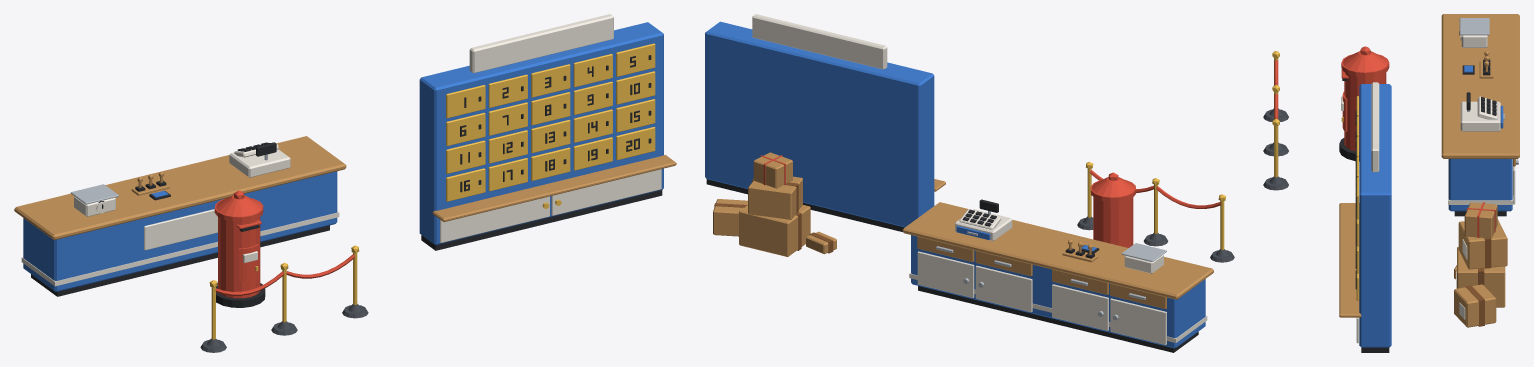
The model's file is post-office-counter-set.glb.
3 renders of one model, left to right at view 1: azimuth 30°, elevation 25°; view 2: azimuth 150°, elevation 25°; view 3: azimuth 270°, elevation 25°, orthographic. The views are drawn at different scales.
Visible parts, largest first — view 1: POWall_Body, Counter_Body, Counter_Top, POWall_Sign_Blank, Postbox_Body, Counter_Trim, POWall_Ledge, POWall_Cabinet_Door_R, POWall_Cabinet_Door_L, POWall_Plinth, Counter_Plinth, Register_Body (+27 smaller); view 2: POWall_Body, Counter_Top, Parcels, Counter_Body, POWall_Sign_Blank, Postbox_Body, Cabinet_Door_4, Cabinet_Door_3, Cabinet_Door_2, Cabinet_Door_1, Counter_Plinth, Register_Body (+12 smaller); view 3: Counter_Top, POWall_Body, Parcels, Counter_Body, Postbox_Body, POWall_Ledge, Register_Body, POWall_Sign_Blank, Stanchion_Bases, Parcel_Tape, Scale_Platform, Stanchion_Posts (+6 smaller).
Boxes of the visible parts, box(x1,y1,x2,y2) form: POWall_Body: box(419, 22, 663, 245); Counter_Body: box(23, 171, 337, 291); Counter_Top: box(14, 136, 346, 240); POWall_Sign_Blank: box(469, 14, 613, 72); Postbox_Body: box(214, 190, 263, 298); Counter_Trim: box(21, 209, 339, 286); POWall_Ledge: box(432, 154, 676, 221); POWall_Cabinet_Door_R: box(551, 169, 661, 215); POWall_Cabinet_Door_L: box(440, 196, 549, 242); POWall_Plinth: box(421, 190, 662, 250); Counter_Plinth: box(31, 225, 329, 296); Register_Body: box(229, 144, 290, 177); POWall_Body: box(705, 21, 934, 227); Counter_Top: box(902, 202, 1213, 299); Parcels: box(713, 152, 836, 256); Counter_Body: box(911, 235, 1205, 348); POWall_Sign_Blank: box(752, 14, 887, 69); Postbox_Body: box(1090, 172, 1136, 247); Cabinet_Door_4: box(917, 251, 974, 298); Cabinet_Door_3: box(975, 265, 1032, 312); Cabinet_Door_2: box(1052, 284, 1108, 330); Cabinet_Door_1: box(1110, 298, 1166, 344); Counter_Plinth: box(918, 286, 1198, 352); Register_Body: box(955, 209, 1012, 241); Counter_Top: box(1441, 14, 1519, 158); POWall_Body: box(1359, 84, 1391, 347); Parcels: box(1454, 202, 1507, 327); Counter_Body: box(1448, 159, 1512, 211); Postbox_Body: box(1341, 46, 1389, 151); POWall_Ledge: box(1339, 203, 1361, 317); Register_Body: box(1460, 96, 1500, 131); POWall_Sign_Blank: box(1371, 82, 1379, 172); Stanchion_Bases: box(1263, 108, 1288, 190); Parcel_Tape: box(1465, 237, 1491, 326); Scale_Platform: box(1459, 18, 1489, 35); Stanchion_Posts: box(1272, 51, 1279, 177).
Size of the model in its own units: 32.29 by 10.05 by 12.78.
